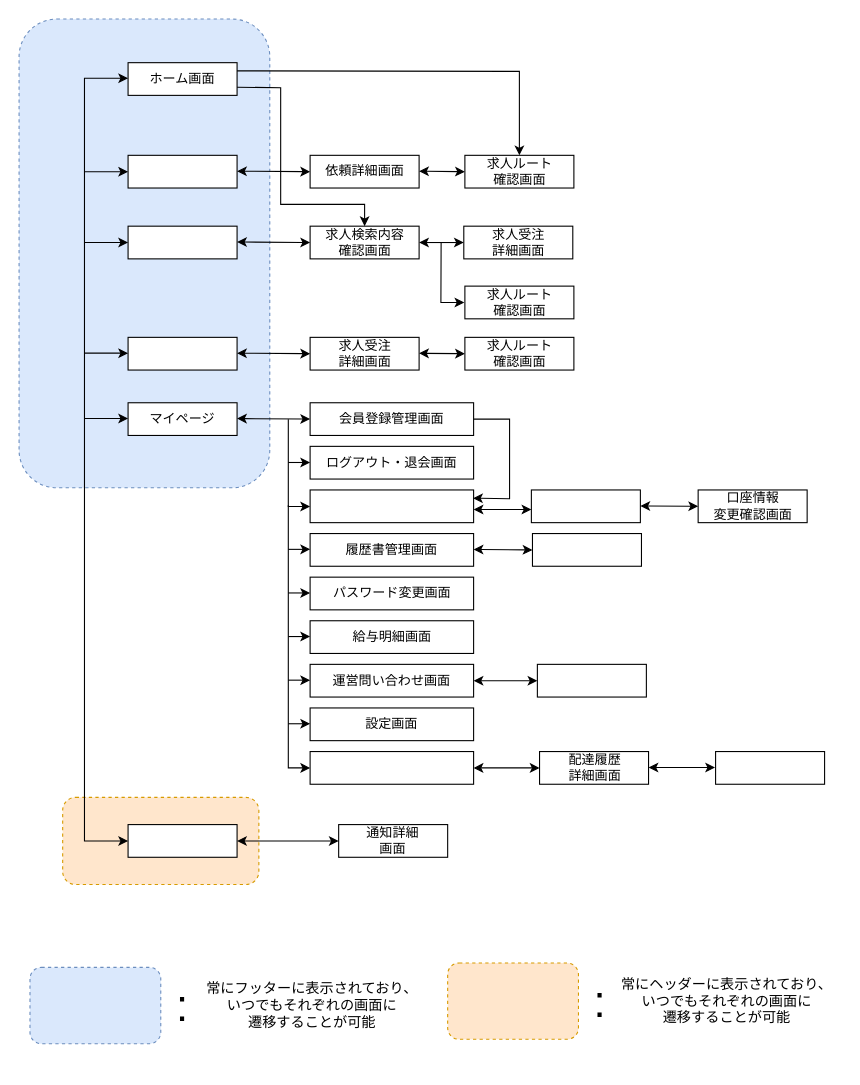
This 860x1085 diagram has some shape labels left out. The centre of each missing label's shape, as x and y in pixels:
"マップ画面" belongs at (182,353).
"受注依頼 表示画面" belongs at (182,171).
"口座情報 変更画面" belongs at (585,506).
"口座情報管理画面" belongs at (391,506).
"履歴書変更 内容 確認画面" belongs at (586,549).
"求人検索画面" belongs at (182,242).
"通知画面" belongs at (182,840).
"運営問い合わせフォーム画面" belongs at (591,680).
"配達ルート 確認画面" belongs at (769,767).
"配達履歴画面" belongs at (391,767).
